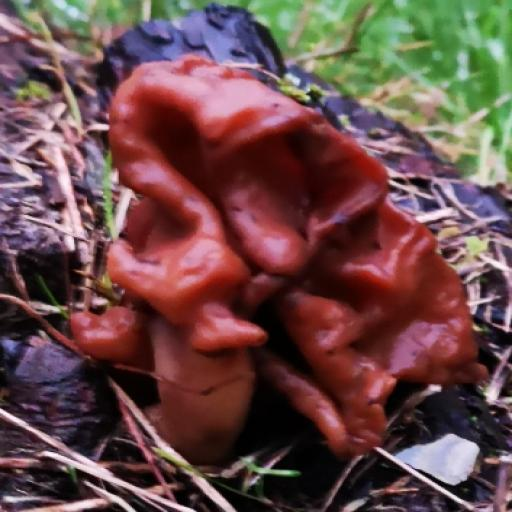mushroom: (56, 0, 485, 495)
